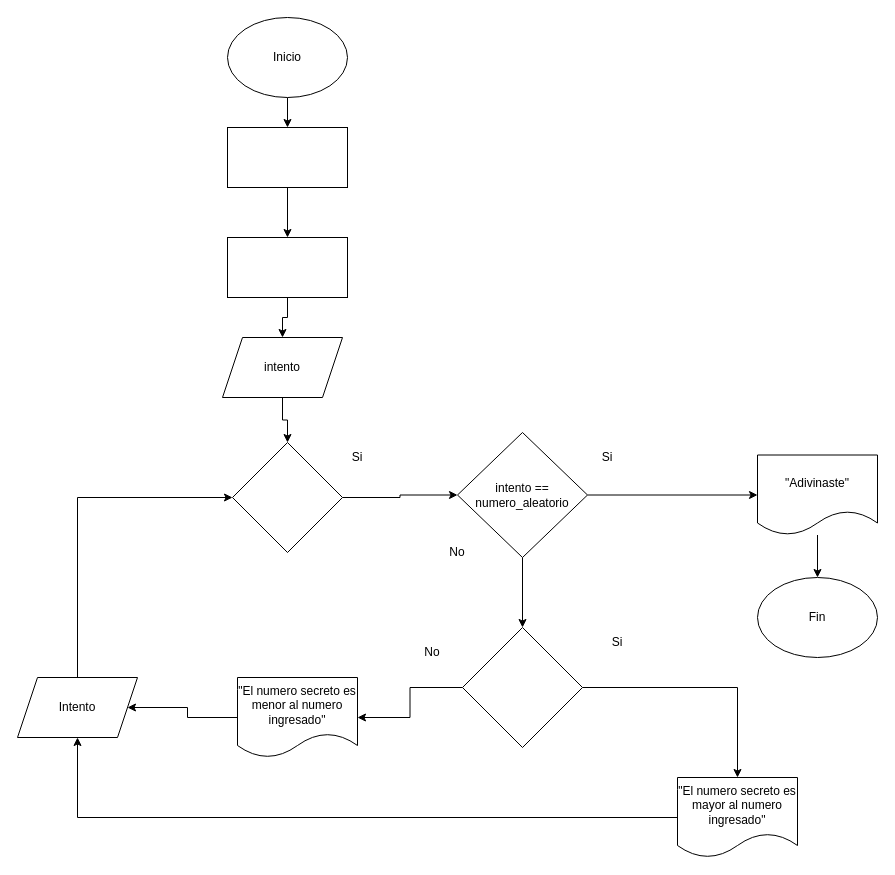
The diagram is 895 pixels wide and 875 high, and some of its shapes have lost their labels. Here are the shapes that lost their labels. From the top down, the centre of each, then its label:
At point 287,157: "import random".
At point 287,267: "numero_aleatorio =random.randint(1,10)".
At point 287,497: "True".
At point 522,687: "intento < numero_aleatorio".
